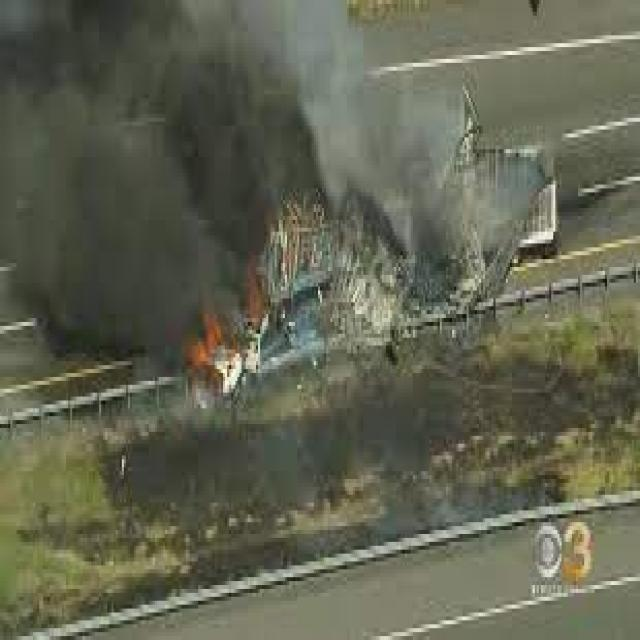fire: (182, 314, 229, 381)
smoke: (2, 4, 324, 255), (246, 4, 545, 255), (2, 86, 244, 354)
